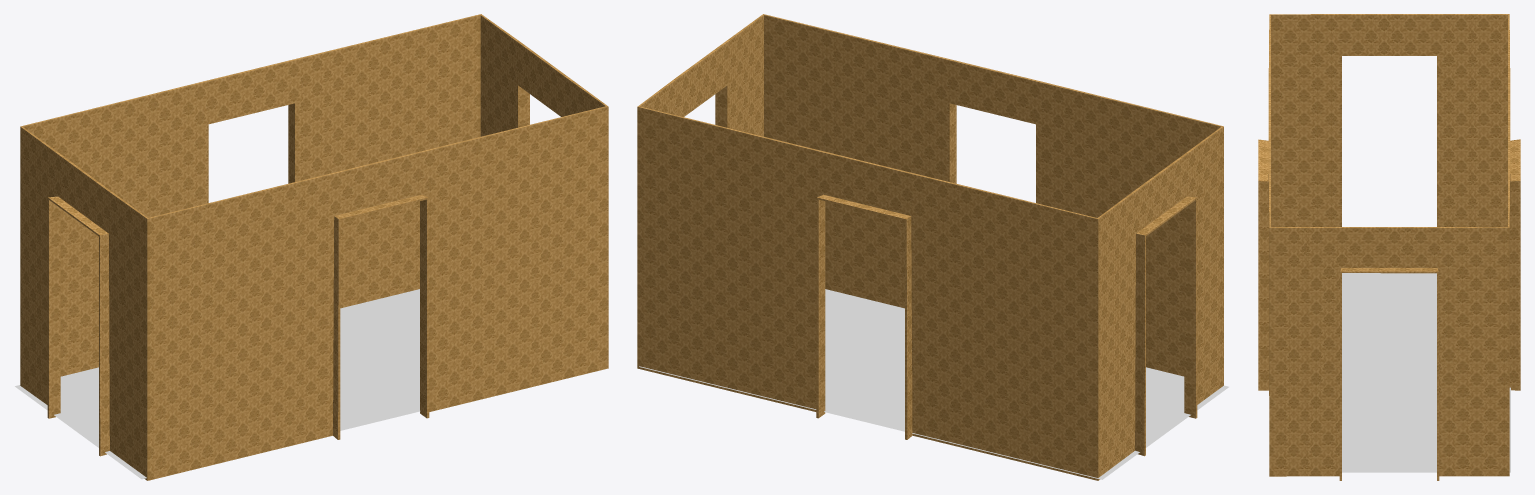
Rendered from Room_Hallway.fbx.
3 renders of one model, left to right at view 1: azimuth 30°, elevation 25°; view 2: azimuth 150°, elevation 25°; view 3: azimuth 270°, elevation 25°, orthographic. The views are drawn at different scales.
Visible parts, largest first — view 1: Walls.004, Plane.015; view 2: Walls.004, Plane.015; view 3: Walls.004, Plane.015.
Part boxes in pixels (bbox=[...]): Walls.004: bbox=[20, 14, 608, 480]; Plane.015: bbox=[15, 289, 420, 479]; Walls.004: bbox=[637, 14, 1223, 480]; Plane.015: bbox=[639, 289, 1228, 479]; Walls.004: bbox=[1258, 14, 1520, 480]; Plane.015: bbox=[1342, 273, 1510, 472].
Bounding box in the file's own units: 707 × 368 × 352.
2 materials, 1 textured.
